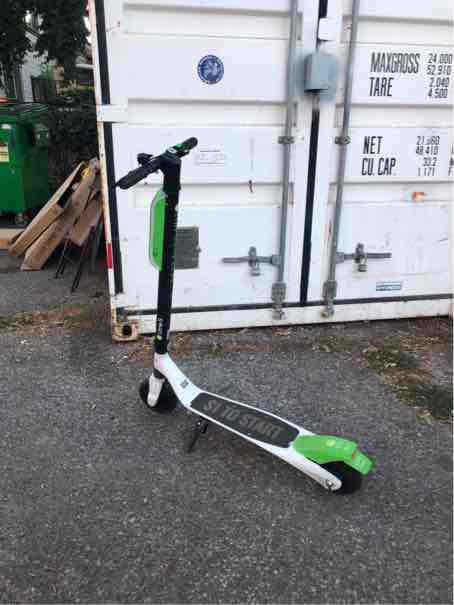scooter: (107, 121, 372, 500)
